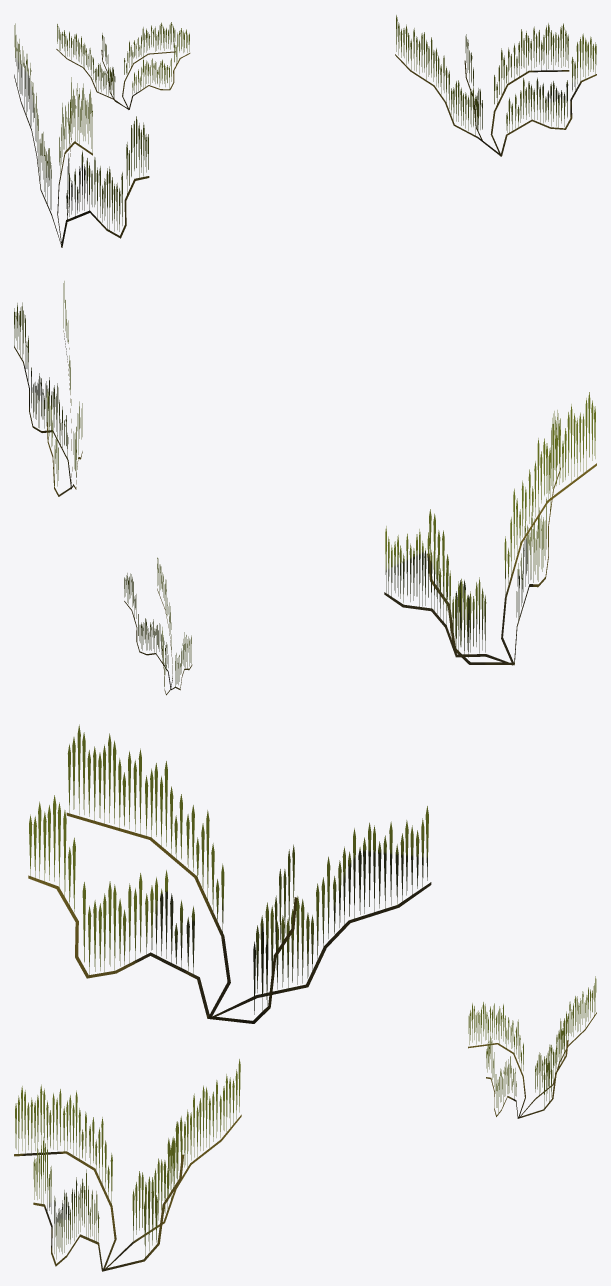
File: Plant_04.FBX
The picture shows the model from 3 angles, top to bottom: view 1: azimuth 30°, elevation 25°; view 2: azimuth 150°, elevation 25°; view 3: azimuth 270°, elevation 25°; orthographic projection. The views are drawn at different scales.
Parts seen in each view (by area): view 1: Plant_04; view 2: Plant_04; view 3: Plant_04.
Boxes of the visible parts, x1=… form: Plant_04: x1=14, y1=15, x2=596, y2=247; Plant_04: x1=14, y1=281, x2=596, y2=695; Plant_04: x1=14, y1=724, x2=596, y2=1271.
Size of the model in its own units: 22.85 by 8.76 by 16.35.
